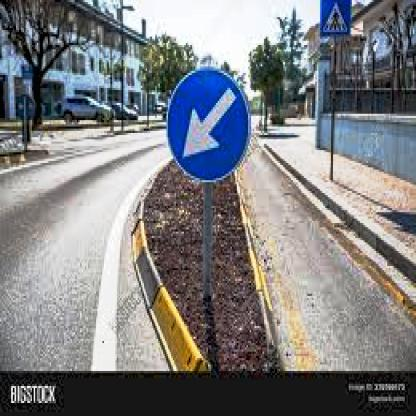Keep left: (163, 55, 250, 187)
